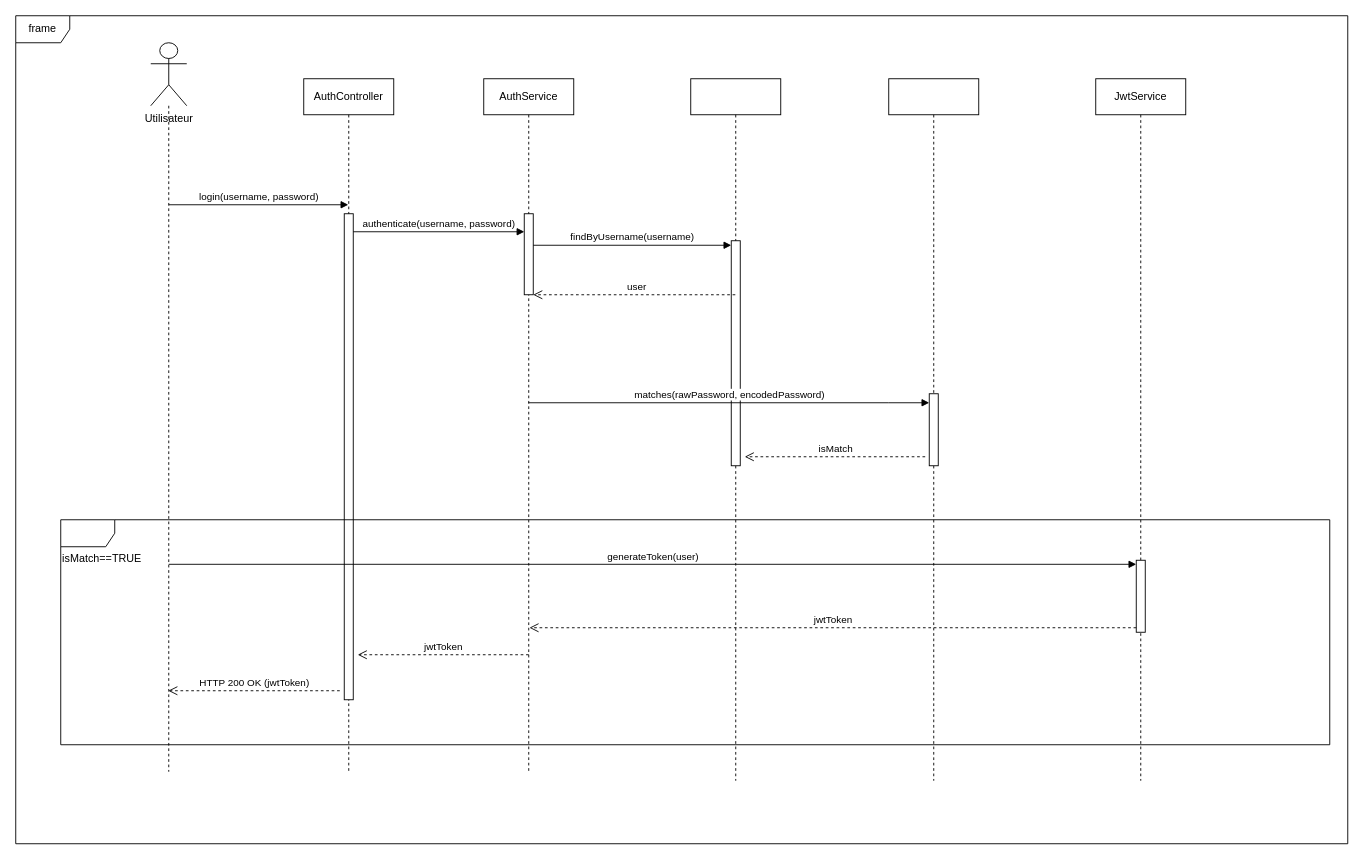
This 1364x860 diagram has some shape labels left out. The box of each missing label's shape, as (x1, y1, x2, y2) in pixels:
opt: (60, 519, 1330, 745)
PasswordEncoder: (888, 78, 979, 781)
UserRepository: (690, 78, 781, 781)
